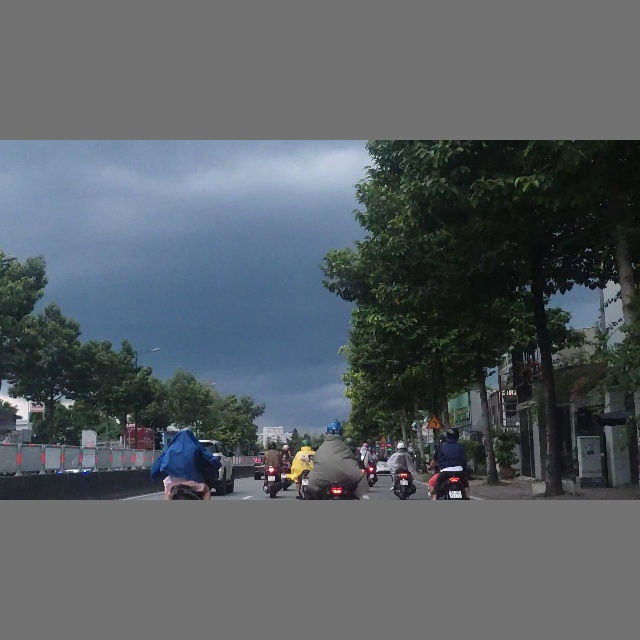W.201a: (426, 415, 443, 429)
